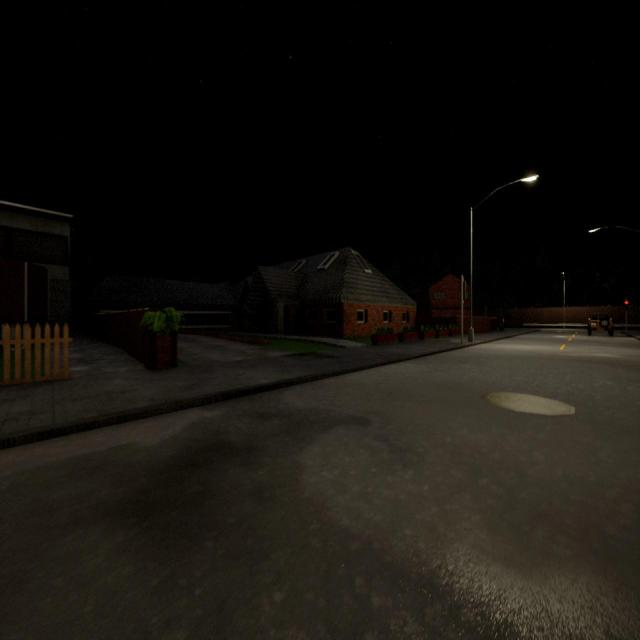Vehicle: (588, 314, 614, 336)
traffic_light: (463, 280, 468, 300), (624, 300, 628, 310)
